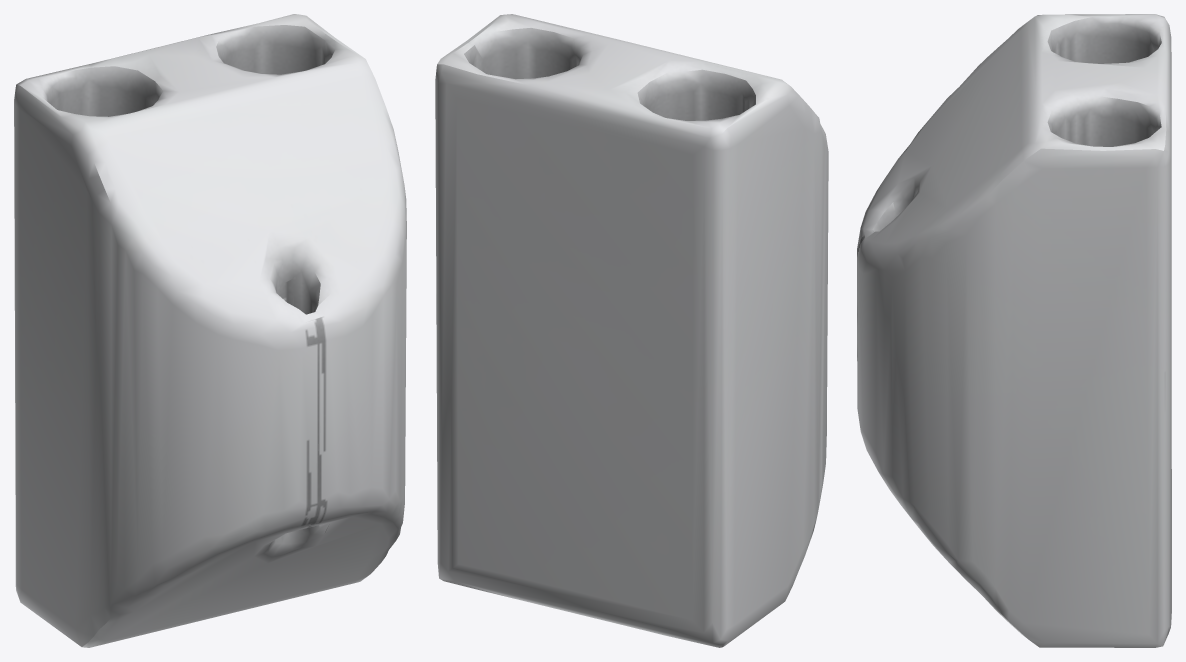
Rendered from right_finger4_lower.glb.
3 renders of one model, left to right at view 1: azimuth 30°, elevation 25°; view 2: azimuth 150°, elevation 25°; view 3: azimuth 270°, elevation 25°, orthographic. The views are drawn at different scales.
Parts seen in each view (by area): view 1: right_finger4_lower; view 2: right_finger4_lower; view 3: right_finger4_lower.
Part boxes in pixels (bbox=[...]): right_finger4_lower: bbox=[14, 14, 406, 647]; right_finger4_lower: bbox=[435, 14, 828, 647]; right_finger4_lower: bbox=[857, 14, 1171, 647].
Size of the model in its own units: 0.0109 by 0.0184 by 0.0104.
1 material, 1 textured.
